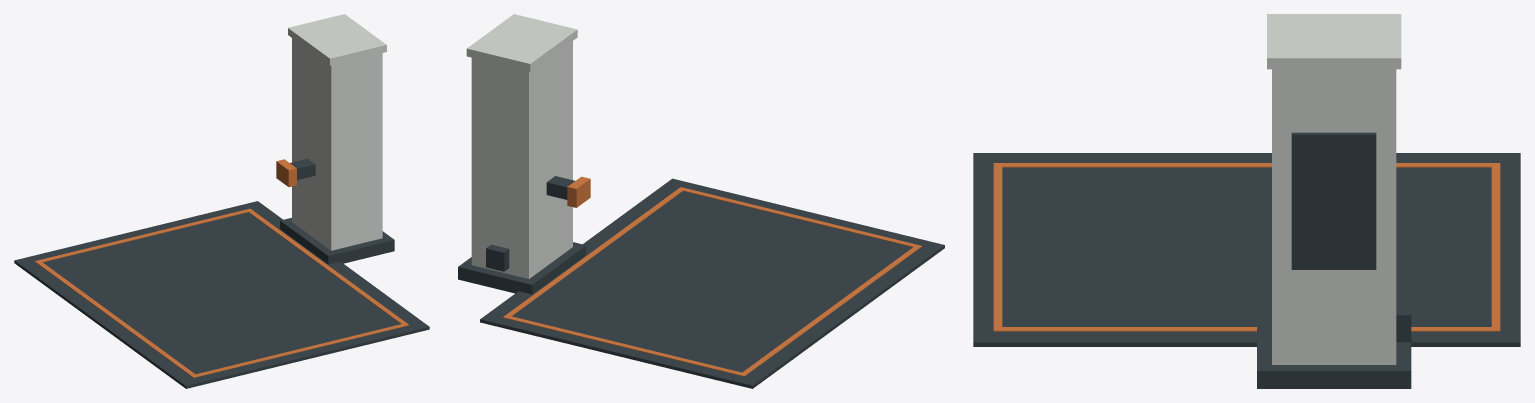
The model's file is charger-r1.glb.
The picture shows the model from 3 angles, left to right: view 1: azimuth 30°, elevation 25°; view 2: azimuth 150°, elevation 25°; view 3: azimuth 270°, elevation 25°; orthographic projection. The views are drawn at different scales.
Visible parts, largest first — view 1: Foundation, Cabinet, BayMark, CabinetCap, CabinetFoot, ContactHead, ArmStem; view 2: Foundation, Cabinet, BayMark, CabinetCap, CabinetFoot, ContactHead, PowerInGuard, ArmStem; view 3: Foundation, Cabinet, ServicePanel, CabinetCap, BayMark, CabinetFoot, PowerInGuard.
Part boxes in pixels (x1,y1,x2,y2): Foundation: (14, 201, 429, 388); Cabinet: (292, 38, 382, 250); BayMark: (34, 208, 408, 377); CabinetCap: (288, 14, 386, 65); CabinetFoot: (280, 218, 394, 264); ContactHead: (276, 159, 296, 187); ArmStem: (290, 158, 315, 179); Foundation: (480, 178, 944, 388); Cabinet: (471, 41, 572, 278); BayMark: (503, 187, 922, 376); CabinetCap: (466, 14, 577, 71); CabinetFoot: (458, 242, 586, 294); ContactHead: (567, 176, 590, 207); PowerInGuard: (486, 244, 509, 271); ArmStem: (546, 176, 574, 199); Foundation: (973, 153, 1520, 346); Cabinet: (1272, 69, 1396, 364); ServicePanel: (1291, 132, 1376, 269); CabinetCap: (1267, 14, 1401, 69); BayMark: (993, 163, 1500, 331); CabinetFoot: (1257, 319, 1411, 388); PowerInGuard: (1396, 302, 1411, 342).
Bounding box in the file's own units: 2.2 × 1.45 × 2.2.
